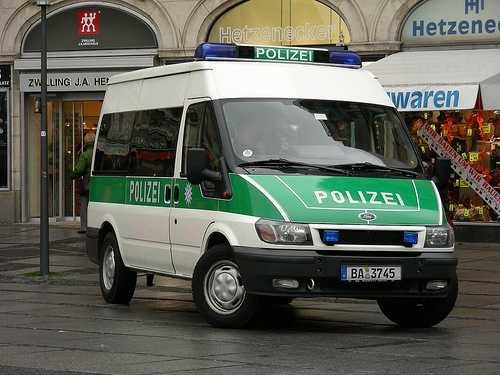Police Van: (77, 31, 472, 342)
